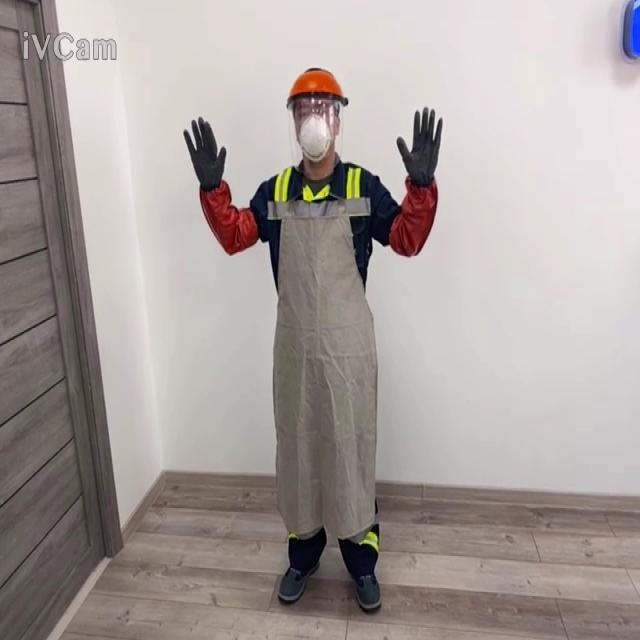Gloves: (396, 105, 443, 187), (182, 116, 226, 191)
Mask: (296, 110, 332, 162)
Protective apron: (266, 178, 378, 542)
Safety Shoes: (277, 560, 319, 603), (353, 571, 381, 609)
Sleeve: (199, 178, 258, 254), (388, 174, 438, 258)
